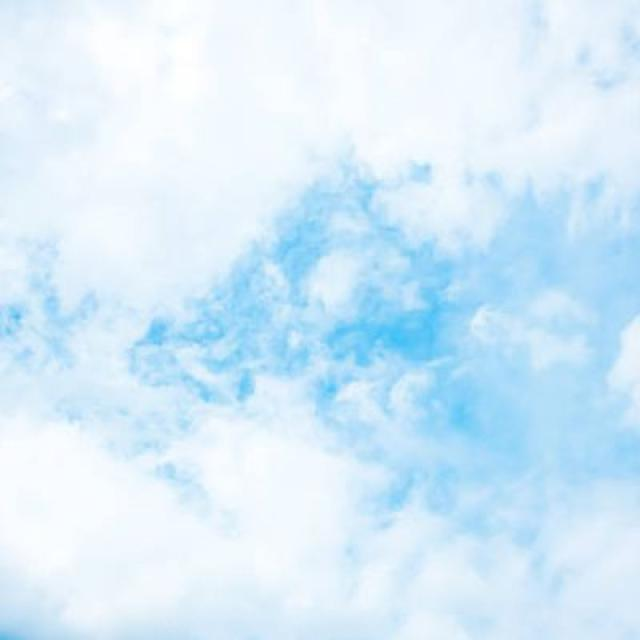Ns: (1, 98, 640, 561)
